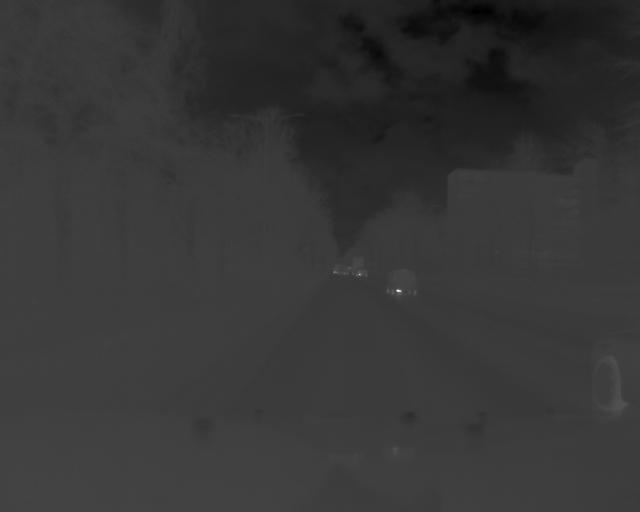car: (384, 268, 421, 300)
